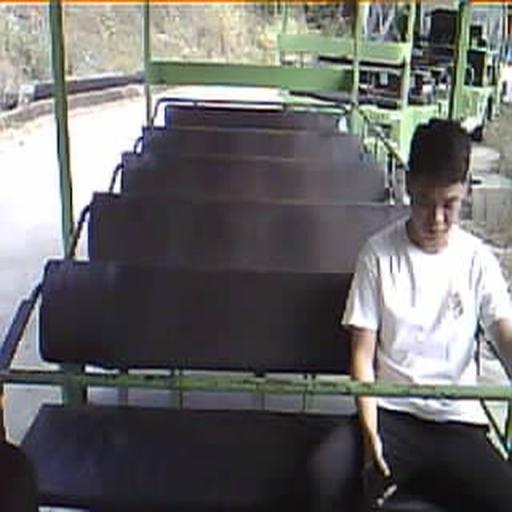persona: (340, 117, 511, 510)
